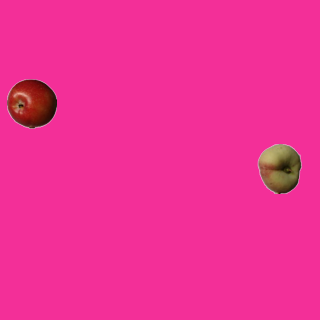Apple Braeburn: (6, 78, 56, 128)
Peach Flat: (254, 143, 304, 193)
